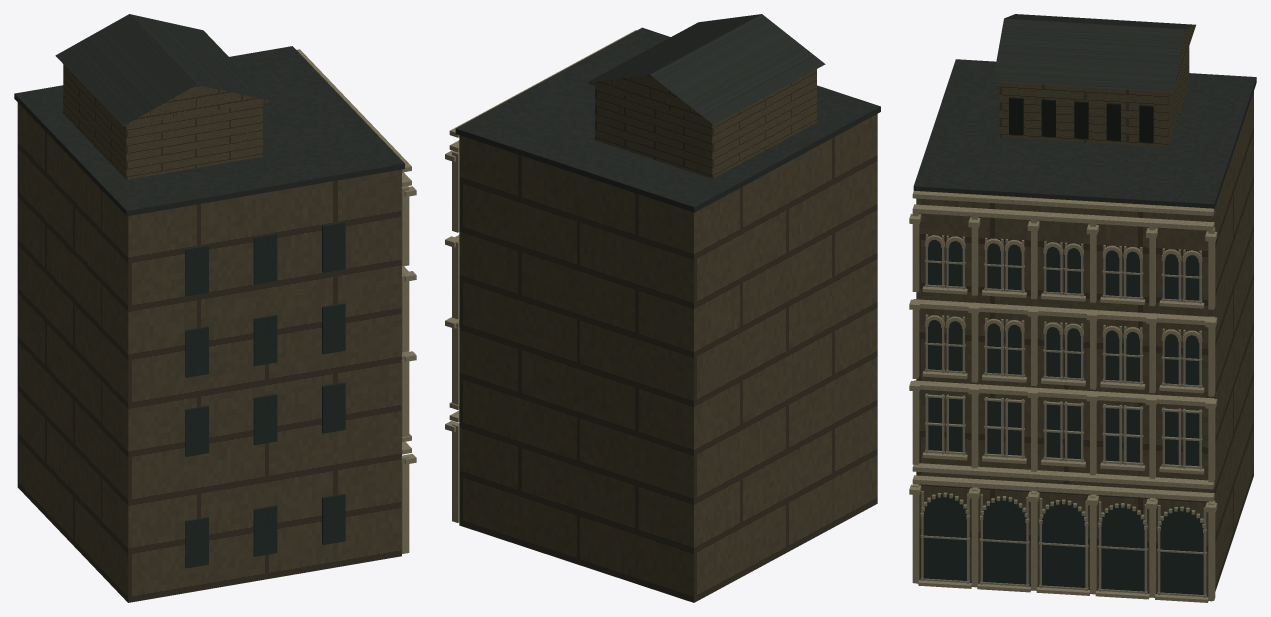
3 renders of one model, left to right at view 1: azimuth 30°, elevation 25°; view 2: azimuth 150°, elevation 25°; view 3: azimuth 270°, elevation 25°, orthographic.
Visible parts, largest first — view 1: ijsendijk-leuvehaven-0, ijsendijk-leuvehaven-1, ijsendijk-leuvehaven-2, ijsendijk-leuvehaven-4; view 2: ijsendijk-leuvehaven-0, ijsendijk-leuvehaven-1, ijsendijk-leuvehaven-4; view 3: ijsendijk-leuvehaven-0, ijsendijk-leuvehaven-4, ijsendijk-leuvehaven-1, ijsendijk-leuvehaven-2, ijsendijk-leuvehaven-3, ijsendijk-leuvehaven-5.
Part boxes in pixels (bbox=[...]): ijsendijk-leuvehaven-0: bbox=[17, 64, 401, 602]; ijsendijk-leuvehaven-1: bbox=[14, 14, 404, 216]; ijsendijk-leuvehaven-2: bbox=[185, 221, 345, 568]; ijsendijk-leuvehaven-4: bbox=[297, 49, 416, 553]; ijsendijk-leuvehaven-0: bbox=[459, 69, 877, 602]; ijsendijk-leuvehaven-1: bbox=[455, 14, 880, 212]; ijsendijk-leuvehaven-4: bbox=[445, 30, 636, 522]; ijsendijk-leuvehaven-0: bbox=[916, 25, 1253, 601]; ijsendijk-leuvehaven-4: bbox=[909, 191, 1217, 602]; ijsendijk-leuvehaven-1: bbox=[913, 14, 1256, 209]; ijsendijk-leuvehaven-2: bbox=[923, 239, 1203, 594]; ijsendijk-leuvehaven-3: bbox=[920, 234, 1206, 597]; ijsendijk-leuvehaven-5: bbox=[1009, 97, 1153, 142].
Size of the model in its own units: 14.25 by 21.5 by 13.95.
Materials: 6 (6 with a texture image).
